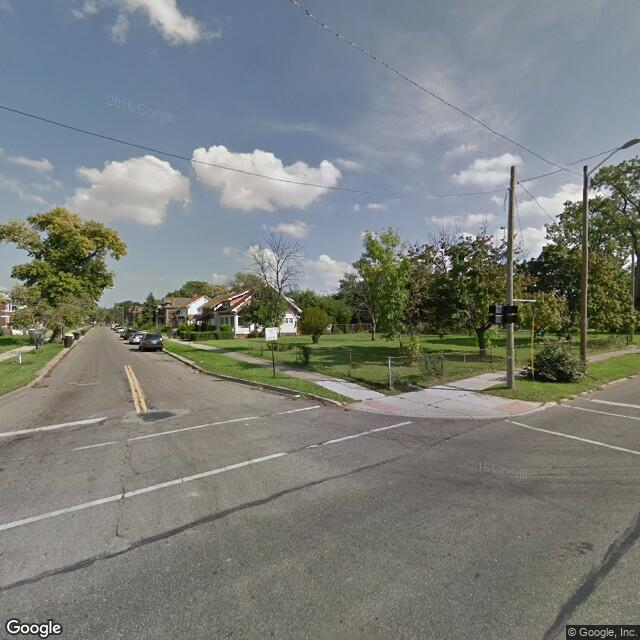litter: (292, 391, 303, 400), (199, 358, 205, 365)
